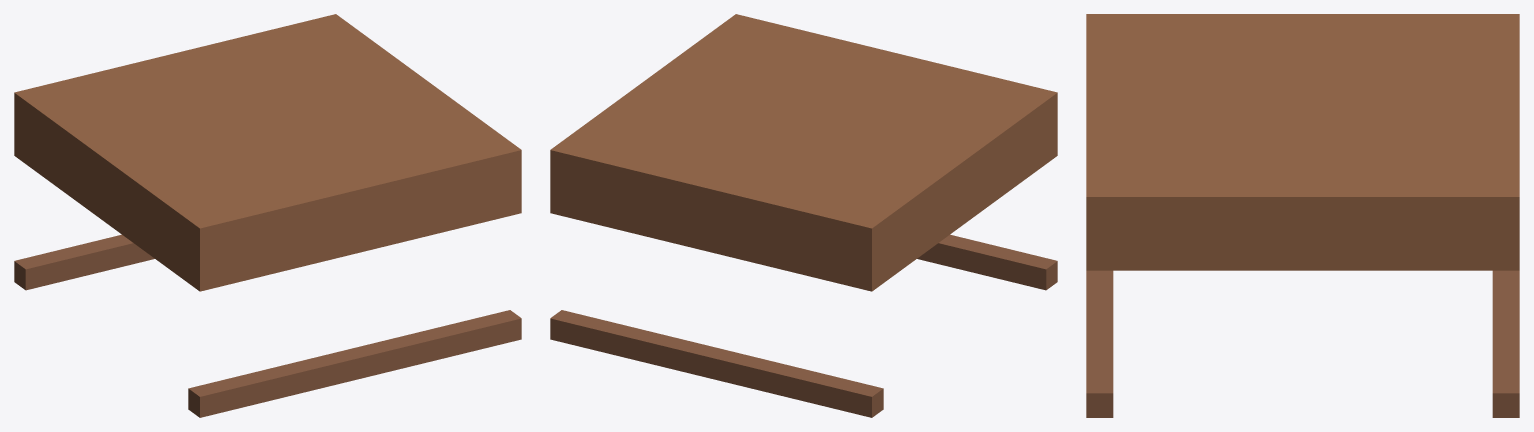
Rendered from Interior_Furniture-26.obj.
3 views of the same model, side by side, from view 1: azimuth 30°, elevation 25°; view 2: azimuth 150°, elevation 25°; view 3: azimuth 270°, elevation 25° (orthographic). The views are drawn at different scales.
Bounding box in the file's own units: 1.6 × 0.9 × 1.6.
Materials: 1 (1 with a texture image).
